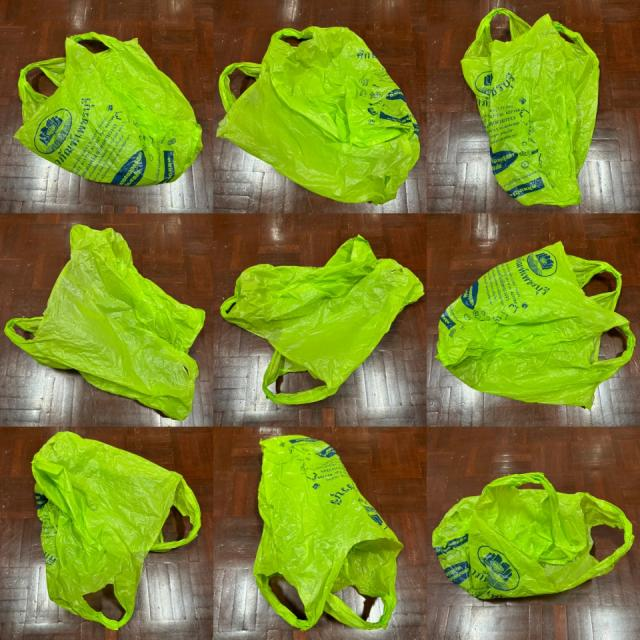Single-layer Plastic: (5, 225, 205, 419), (216, 26, 419, 204), (221, 235, 424, 404), (32, 431, 200, 629), (436, 241, 635, 408), (15, 32, 202, 186), (254, 435, 402, 629), (461, 9, 599, 206), (432, 472, 632, 598)
